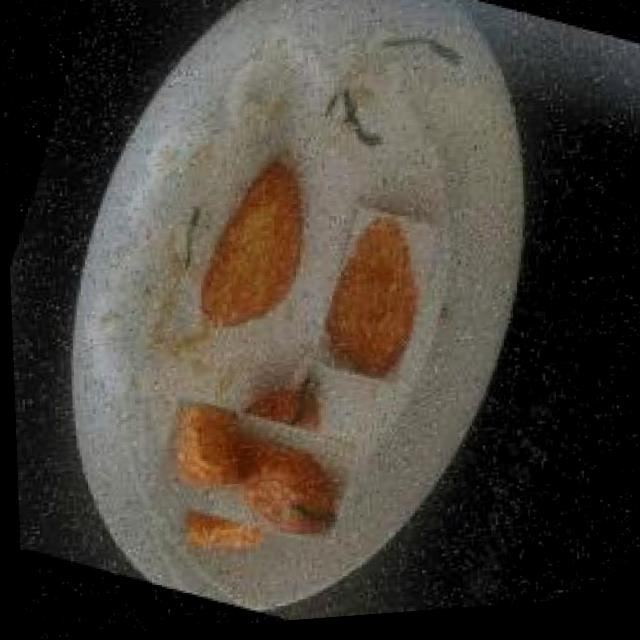triangle_hash_brown: (153, 376, 347, 572), (183, 149, 334, 353), (304, 208, 447, 399)
